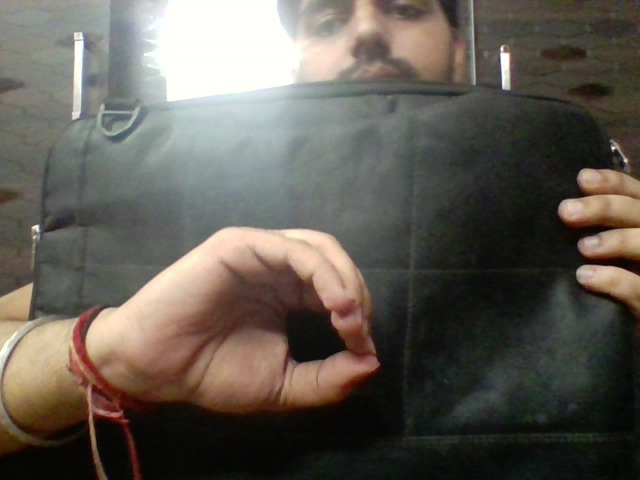o: (139, 212, 399, 429)
